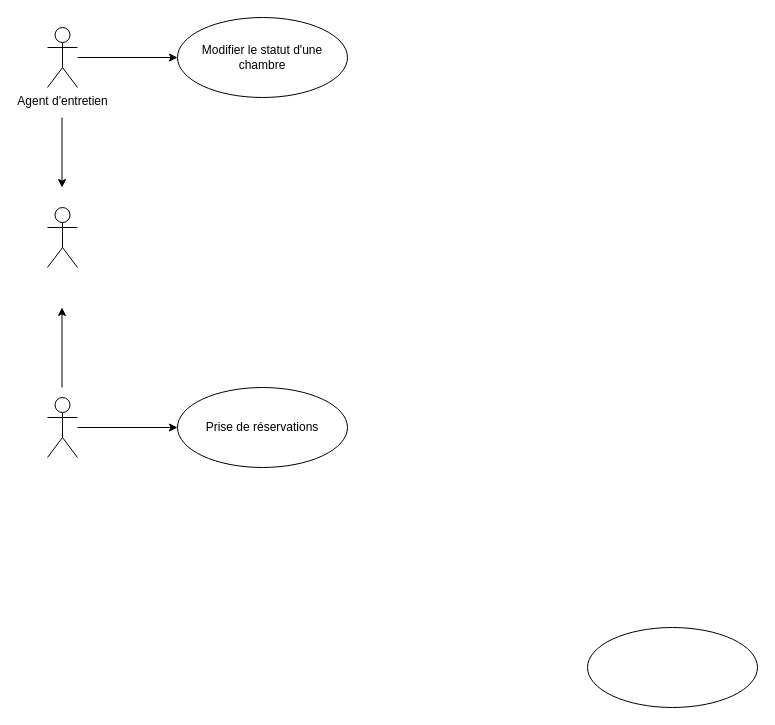
Some shapes in this 775 by 725 pixel diagram are drawn without their labels. The centre of each missing label's shape, as x and y in pixels:
"Gérant" goes at point (62, 237).
"Réceptionniste" goes at point (62, 427).
